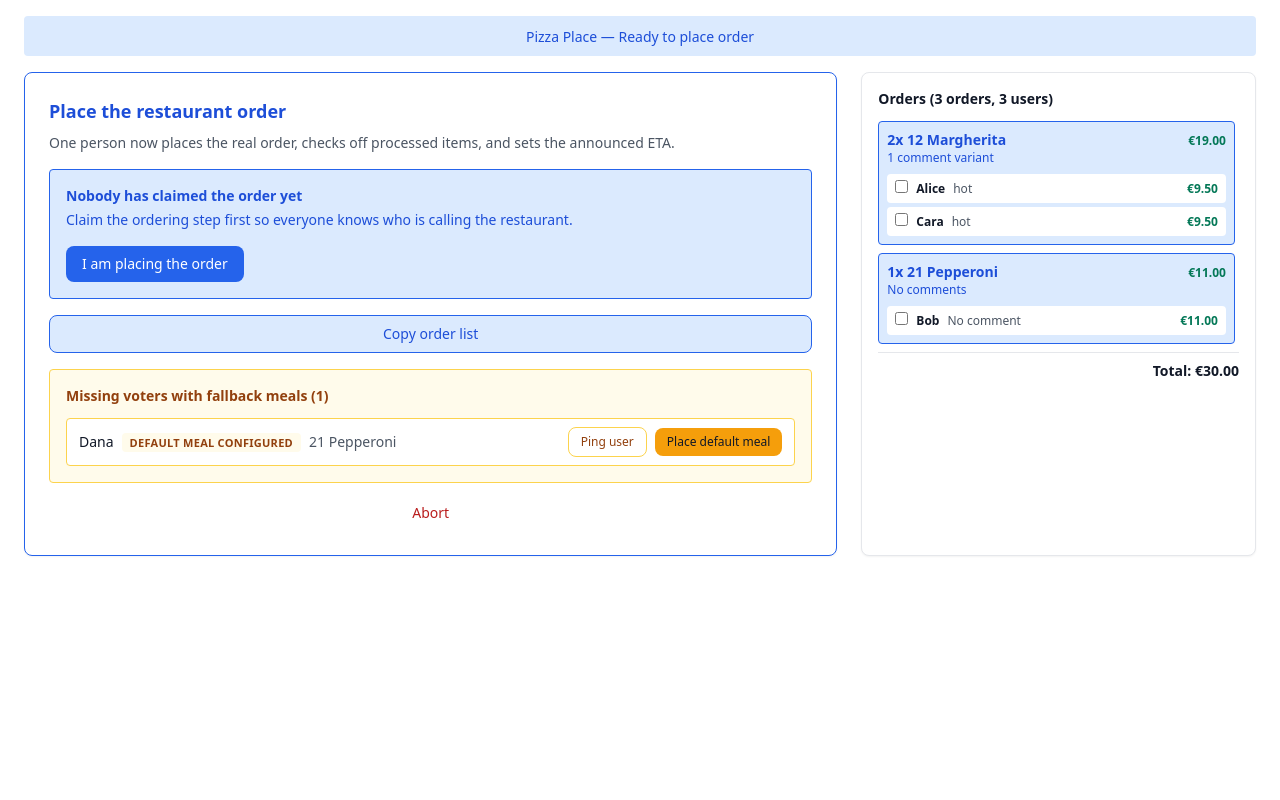
Test case: FoodSelectionOrderingView › copies grouped order list with item numbers
Click the button "Copy order list": (431,334) [49,315,812,353]
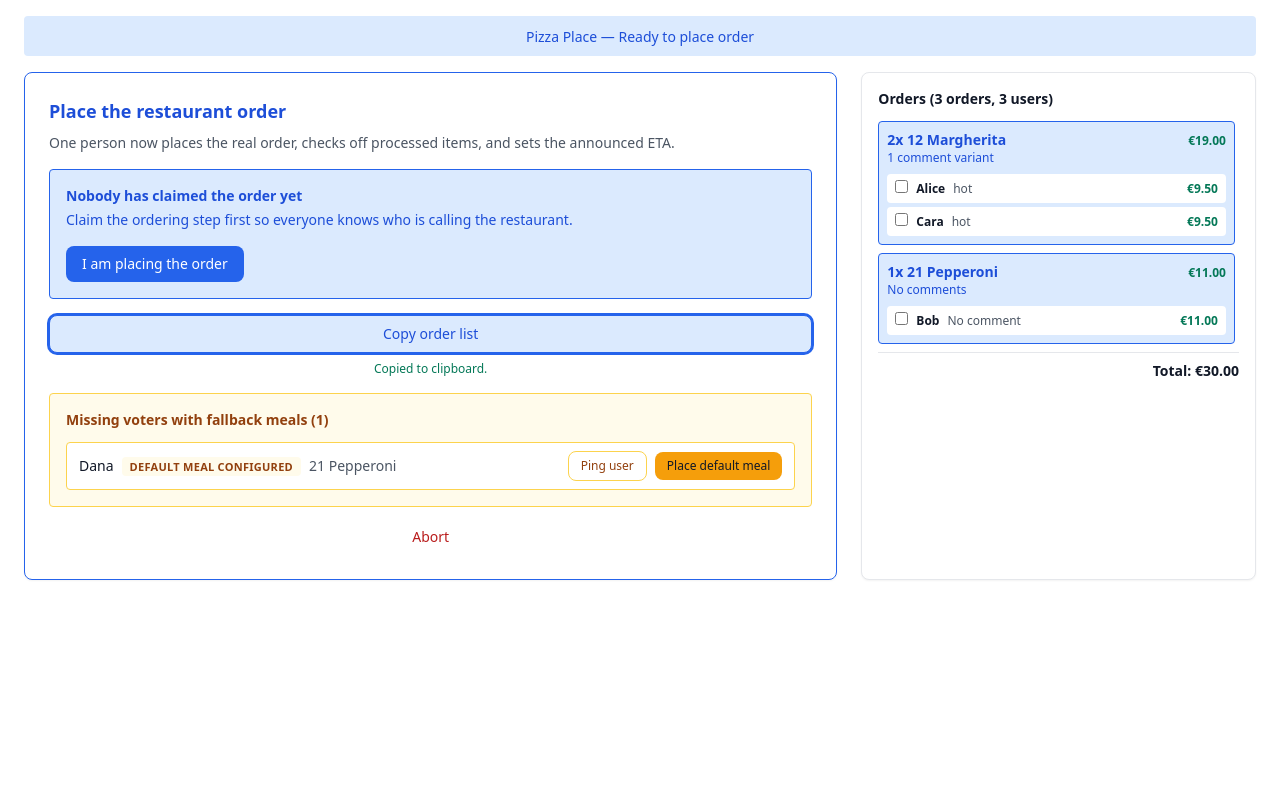
Result: the text "Copied to clipboard." is shown at [374,360,487,377]
